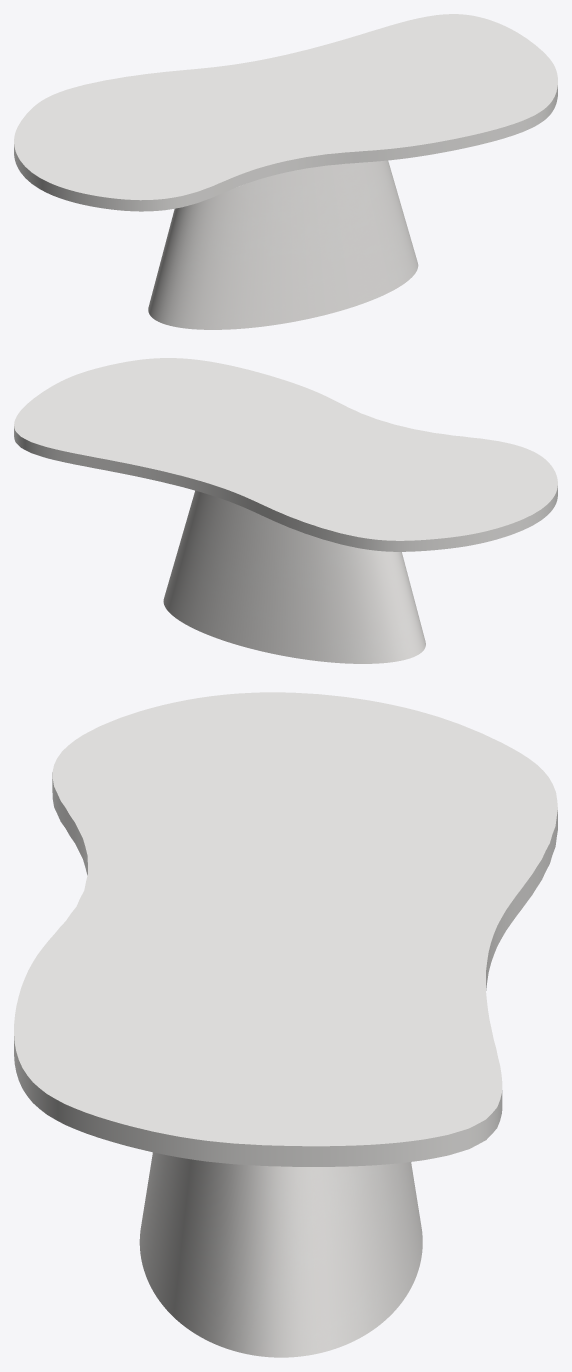
File: purewhite_wave_standard_eqone.glb
The picture shows the model from 3 angles, top to bottom: view 1: azimuth 30°, elevation 25°; view 2: azimuth 150°, elevation 25°; view 3: azimuth 270°, elevation 25°; orthographic projection. The views are drawn at different scales.
Visible parts, largest first — view 1: standard_wave, eqone; view 2: standard_wave, eqone; view 3: standard_wave, eqone.
Boxes of the visible parts, x1,y1,x2,y2 form: standard_wave: (14,14,557,211); eqone: (148,160,418,329); standard_wave: (14,358,557,551); eqone: (163,490,425,663); standard_wave: (14,692,557,1166); eqone: (139,1152,422,1357).
Size of the model in its own units: 7.5 by 2.5 by 3.8.
1 material, 1 textured.
